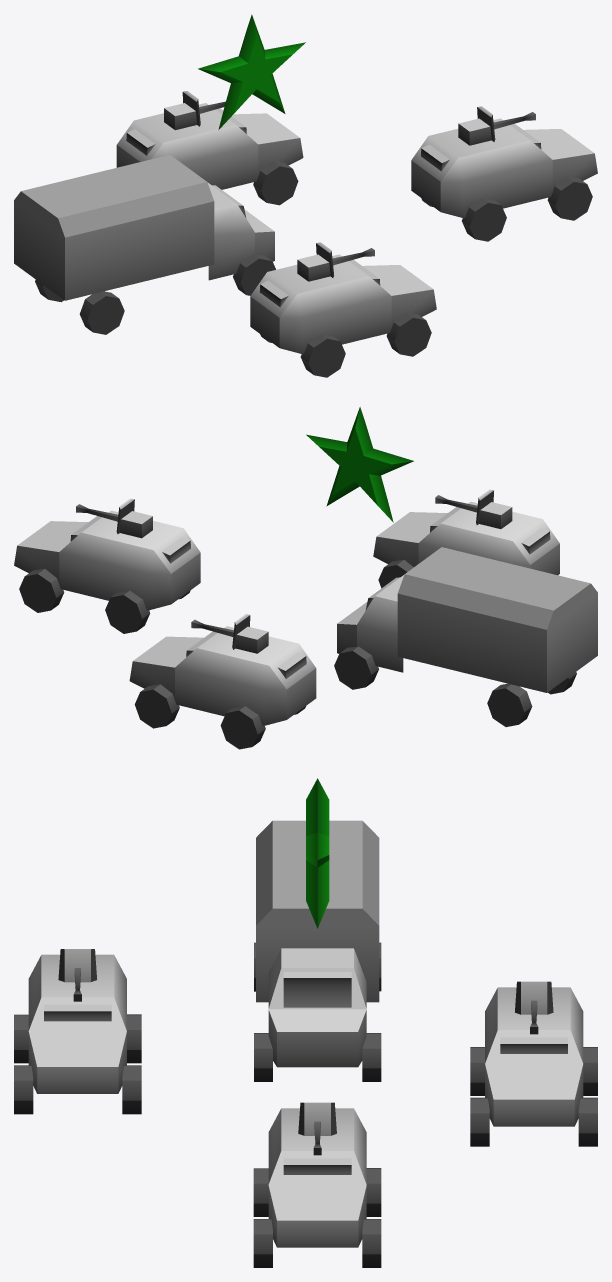
The model's file is unit_commander.fbx.
The picture shows the model from 3 angles, top to bottom: view 1: azimuth 30°, elevation 25°; view 2: azimuth 150°, elevation 25°; view 3: azimuth 270°, elevation 25°; orthographic projection. The views are drawn at different scales.
Visible parts, largest first — view 1: jeep_Body (×3), logi_body, jeep_wheel1 (×3), polySurface21, jeep_turret (×3), jeep_wheel4 (×2), logi_wheel1_4, logi_wheel1_1; view 2: jeep_Body (×3), logi_body, polySurface21, jeep_wheel2 (×3), jeep_turret (×3), jeep_wheel3 (×2), logi_wheel1_3, logi_wheel1_2; view 3: jeep_Body (×3), logi_body, jeep_driverview (×3), jeep_turret (×3), polySurface21, jeep_wheel1 (×3), jeep_wheel2 (×3), jeep_wheel3 (×3), jeep_wheel4 (×3), logi_wheel1_2, logi_wheel1_1.
Part boxes in pixels (x1,y1,x2,y2): jeep_Body (×3): (116,103,597,354); logi_body: (14,155,274,300); jeep_wheel1 (×3): (253,161,592,356); polySurface21: (198,14,305,129); jeep_turret (×3): (164,91,495,281); jeep_wheel4 (×2): (300,198,506,377); logi_wheel1_4: (79,291,124,334); logi_wheel1_1: (233,254,275,295); jeep_Body (×3): (14,501,559,725); logi_body: (337,547,597,692); polySurface21: (306,407,413,522); jeep_wheel2 (×3): (19,559,413,728); jeep_turret (×3): (116,489,512,653); jeep_wheel3 (×2): (105,590,265,749); logi_wheel1_3: (487,683,532,726); logi_wheel1_2: (334,646,378,689); jeep_Body (×3): (28,954,583,1247); logi_body: (256,820,379,1067); jeep_driverview (×3): (44,1004,567,1174); jeep_turret (×3): (58,949,553,1135); polySurface21: (306,778,329,928); jeep_wheel1 (×3): (14,1065,489,1267); jeep_wheel2 (×3): (122,1065,597,1267); jeep_wheel3 (×3): (127,1014,597,1216); jeep_wheel4 (×3): (14,1014,484,1216); logi_wheel1_2: (362,1033,381,1081); logi_wheel1_1: (254,1033,272,1081).
Size of the model in its own units: 6.74 by 3.09 by 5.2.
